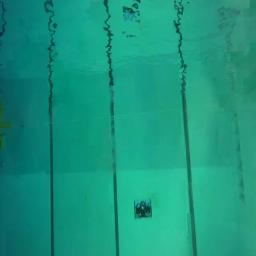front: (134, 198, 153, 220)
